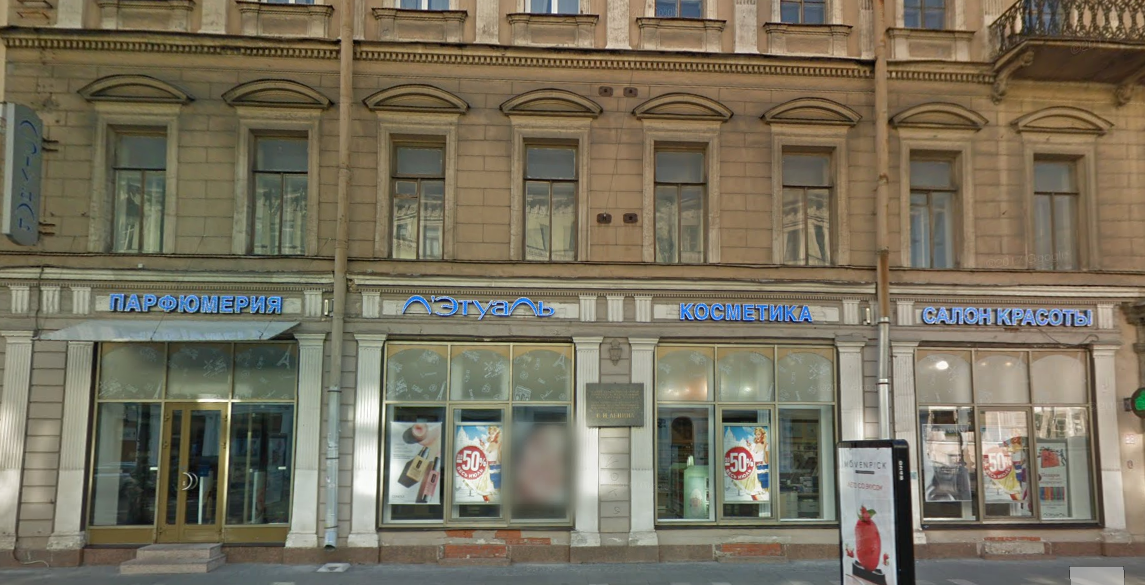cantilever: (1, 97, 65, 267)
door: (162, 403, 222, 542)
signboard: (104, 287, 1108, 332)
window: (385, 341, 571, 530), (917, 347, 1100, 526), (658, 347, 841, 523), (228, 392, 291, 535), (93, 401, 157, 541), (519, 143, 581, 260), (250, 132, 305, 257), (653, 141, 708, 266), (779, 144, 834, 268), (1028, 155, 1085, 272), (393, 144, 446, 259), (112, 124, 159, 252), (910, 153, 958, 271)
